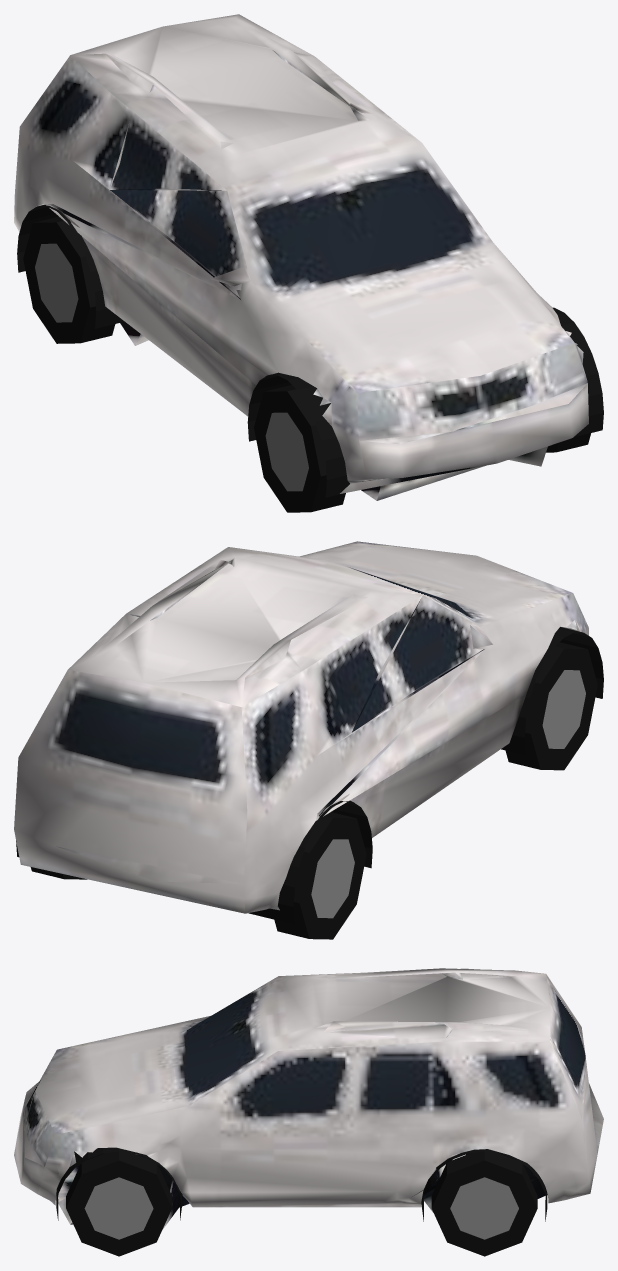
File: suv-white-far.glb
The picture shows the model from 3 angles, top to bottom: view 1: azimuth 30°, elevation 25°; view 2: azimuth 150°, elevation 25°; view 3: azimuth 270°, elevation 25°; orthographic projection. The views are drawn at different scales.
Parts seen in each view (by area): view 1: suv-far; view 2: suv-far; view 3: suv-far.
Part boxes in pixels (x1=…): suv-far: x1=14, y1=14, x2=603, y2=512; suv-far: x1=14, y1=541, x2=603, y2=939; suv-far: x1=14, y1=968, x2=603, y2=1256.
Bounding box in the file's own units: 2.04 × 1.84 × 4.7.
1 material, 1 textured.
